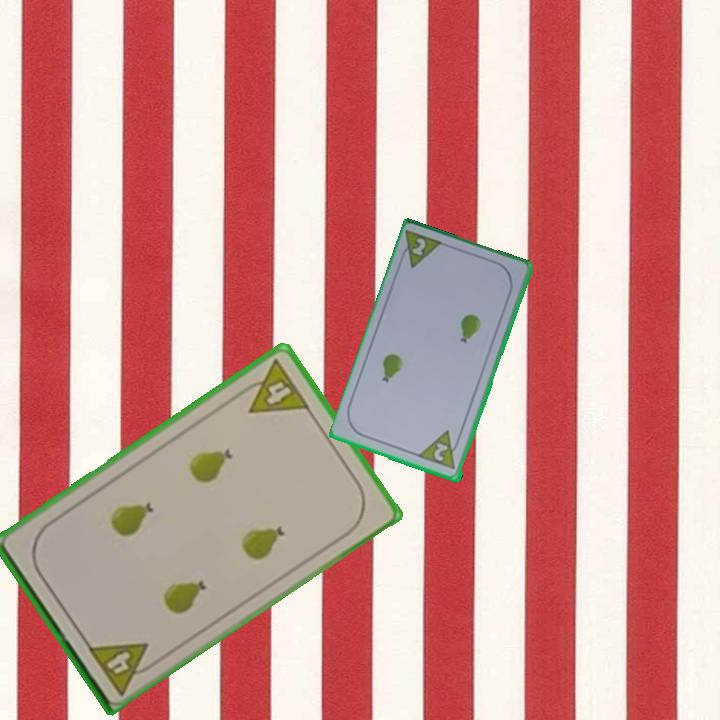2p: (430, 439, 451, 464), (409, 234, 429, 259)
4p: (234, 356, 313, 417), (84, 638, 161, 698)
